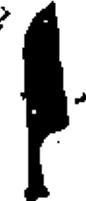Reed: (18, 2, 71, 201)
